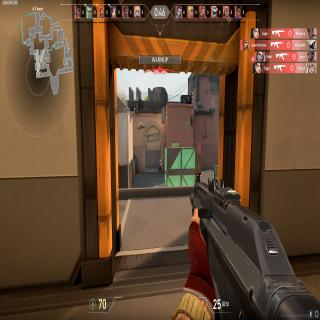ENEMY-BODY: (159, 159, 162, 175)
ENEMY-HEAD: (160, 159, 161, 162)
